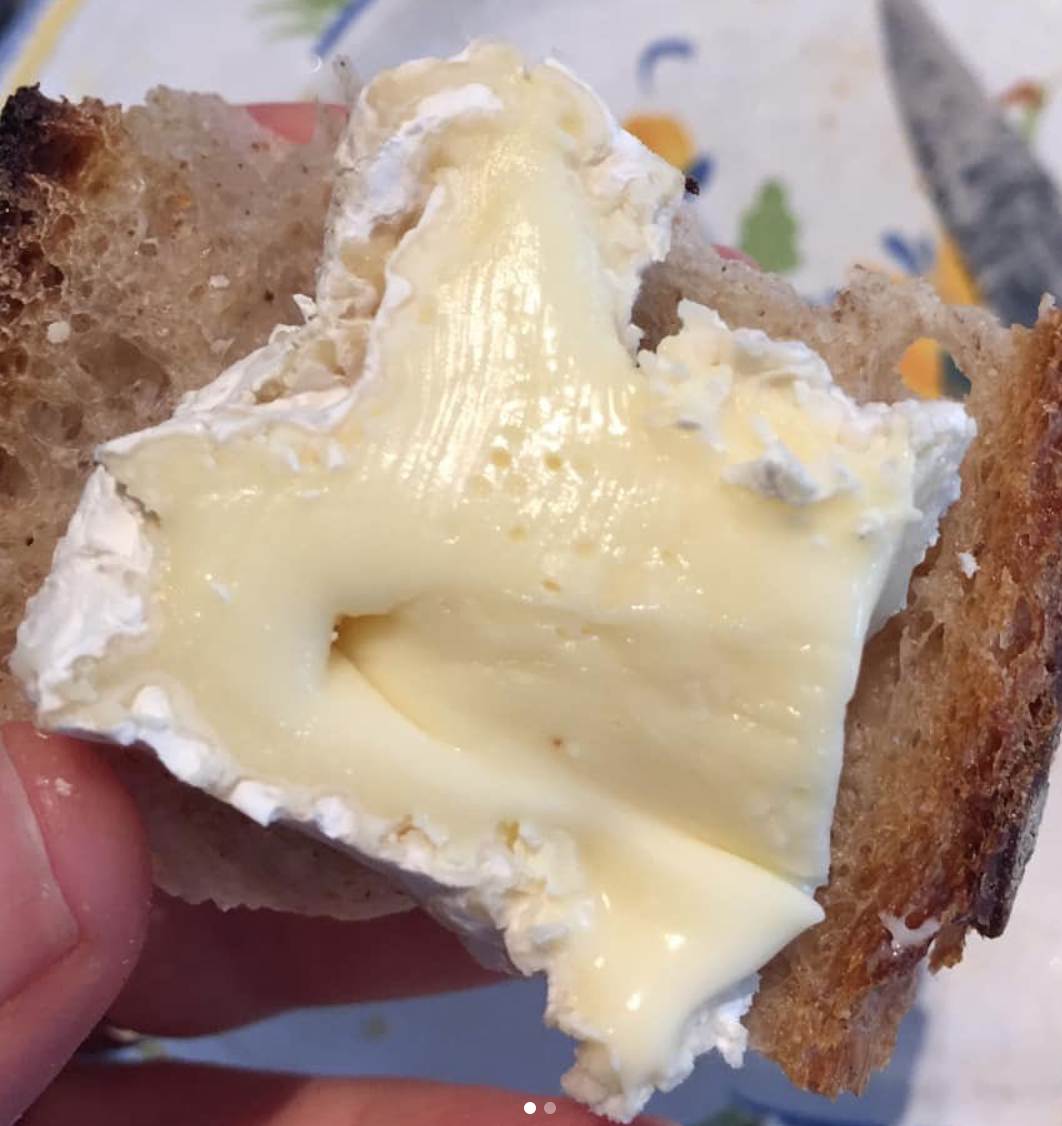camembert: (8, 41, 983, 1119)
